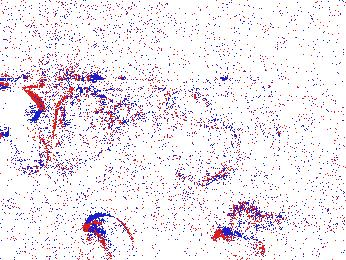flame jellyfish: (1, 85, 50, 176), (213, 200, 283, 260), (74, 212, 134, 260)
